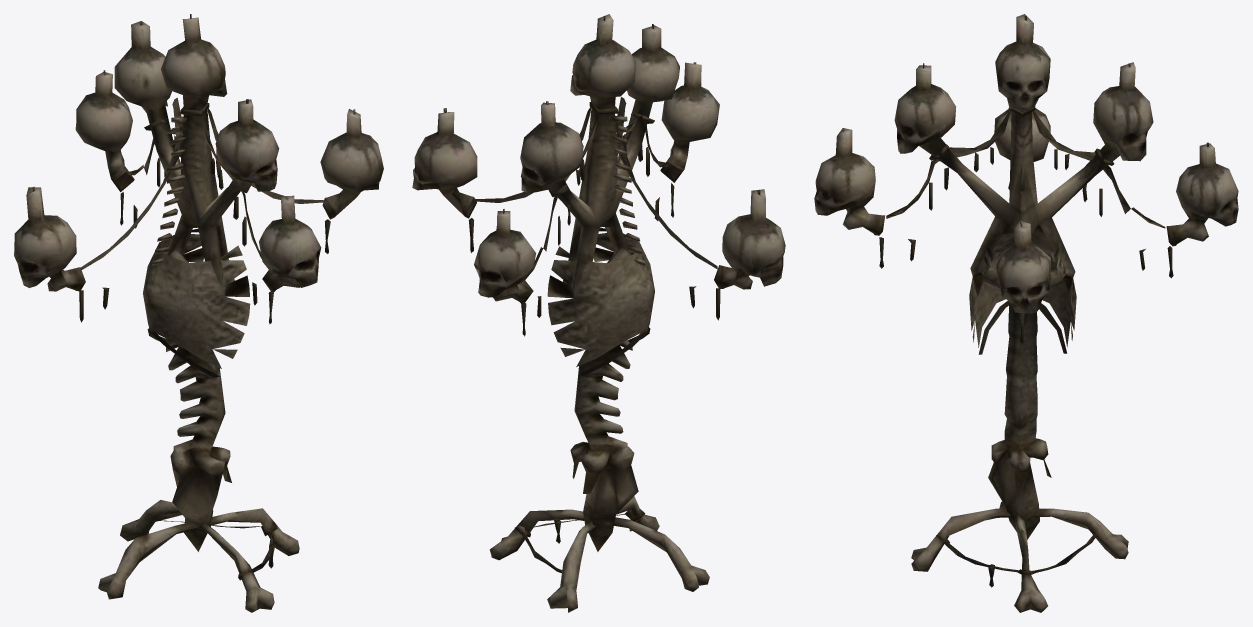
Rendered from bone_candelabrum.glb.
3 renders of one model, left to right at view 1: azimuth 30°, elevation 25°; view 2: azimuth 150°, elevation 25°; view 3: azimuth 270°, elevation 25°, orthographic. The views are drawn at different scales.
Parts seen in each view (by area): view 1: tripo_node_19e2e3e7-690c-4ec9-bd0d-e9f401cc0433; view 2: tripo_node_19e2e3e7-690c-4ec9-bd0d-e9f401cc0433; view 3: tripo_node_19e2e3e7-690c-4ec9-bd0d-e9f401cc0433.
Boxes of the visible parts, bbox=[...] form: tripo_node_19e2e3e7-690c-4ec9-bd0d-e9f401cc0433: bbox=[14, 14, 383, 612]; tripo_node_19e2e3e7-690c-4ec9-bd0d-e9f401cc0433: bbox=[412, 14, 785, 612]; tripo_node_19e2e3e7-690c-4ec9-bd0d-e9f401cc0433: bbox=[814, 14, 1238, 612].
Bounding box in the file's own units: 0.6816 × 0.998 × 0.7012.
1 material, 1 textured.
